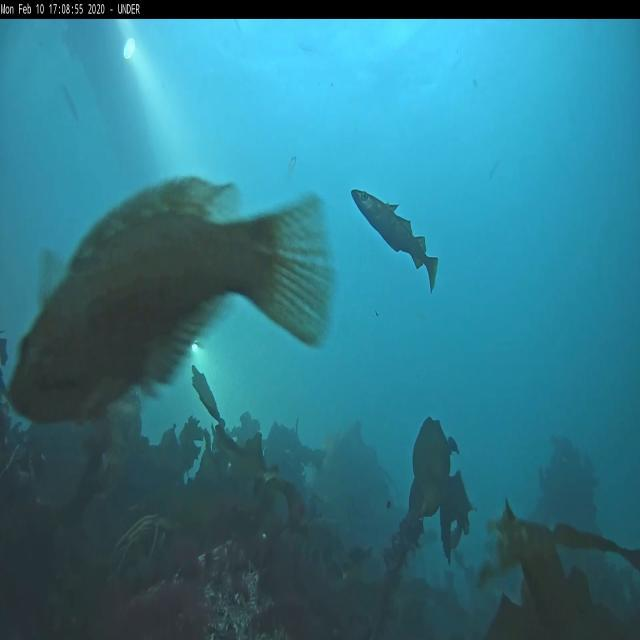fish: (7, 172, 336, 426), (352, 188, 437, 294), (62, 82, 78, 120), (286, 155, 298, 180)
